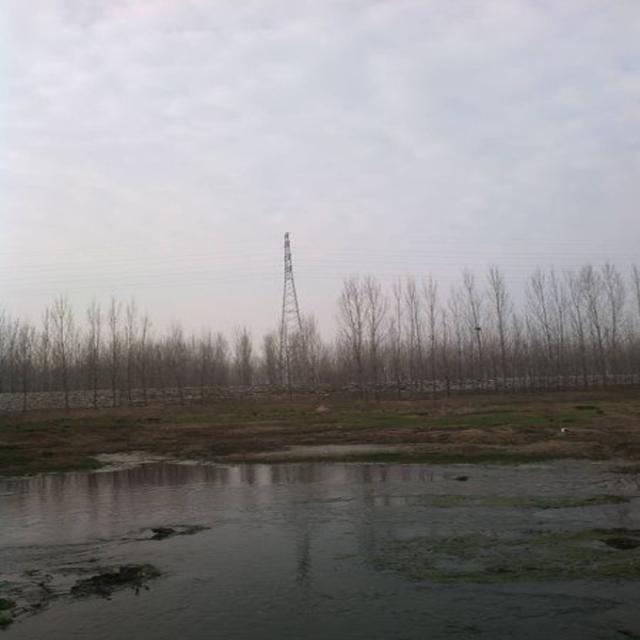non-critical vegetation: (258, 220, 332, 382)
